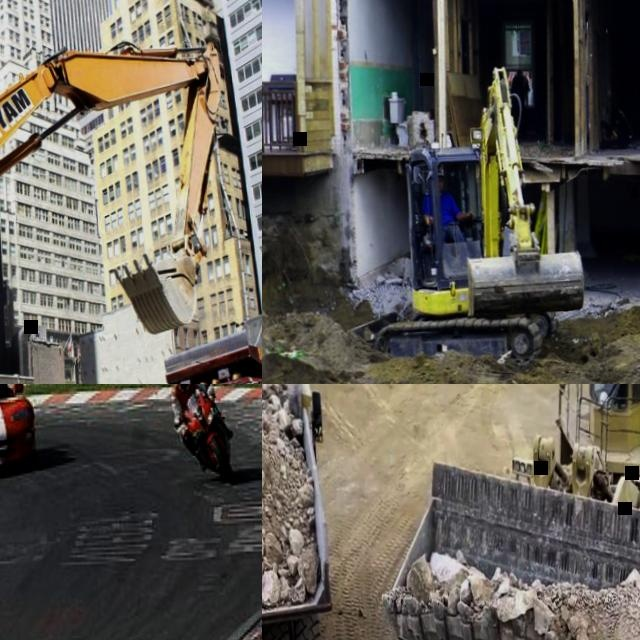NO-Hardhat: (433, 165, 445, 177)
NO-Mask: (438, 185, 443, 193)
NO-Safety Vest: (427, 190, 454, 224), (172, 384, 196, 411)
Person: (421, 165, 477, 264), (167, 384, 206, 464), (510, 67, 531, 122)
machinery: (0, 33, 236, 384), (335, 63, 586, 372), (367, 384, 640, 640), (262, 384, 344, 640)
vehicle: (94, 326, 262, 384), (0, 384, 40, 487)
